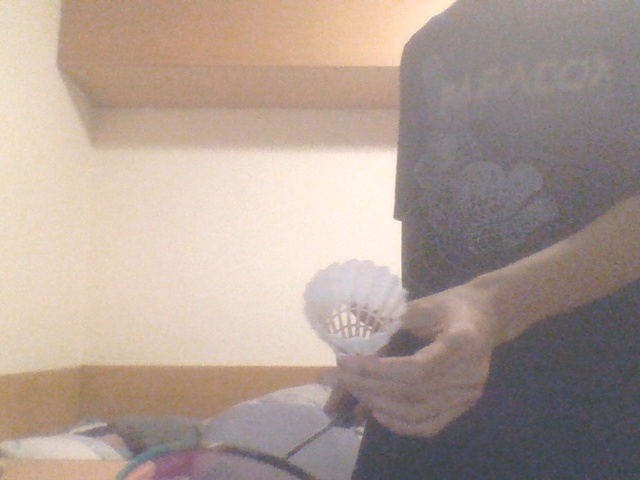human: (323, 1, 640, 480)
racket: (116, 394, 356, 480)
shuttle: (303, 259, 407, 355)
